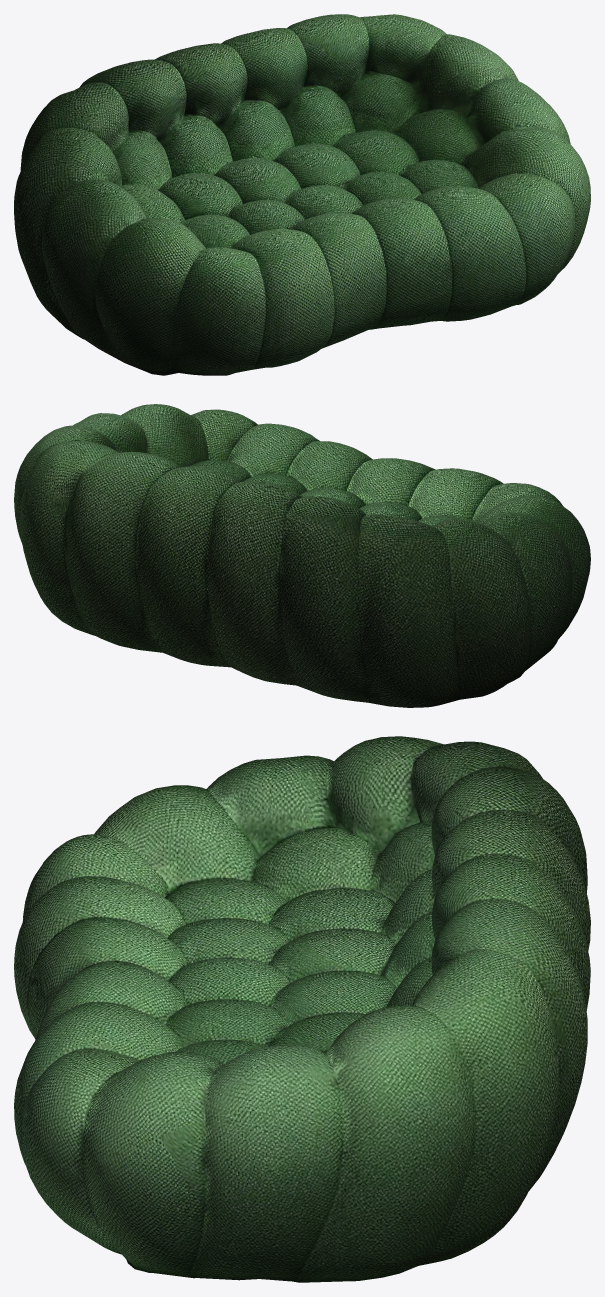
File: green-sofa.glb
3 views of the same model, one above another, from view 1: azimuth 30°, elevation 25°; view 2: azimuth 150°, elevation 25°; view 3: azimuth 270°, elevation 25° (orthographic). The views are drawn at different scales.
Visible parts, largest first — view 1: tripo_node_3f617c6f-8434-4343-981b-533a0f7939f9; view 2: tripo_node_3f617c6f-8434-4343-981b-533a0f7939f9; view 3: tripo_node_3f617c6f-8434-4343-981b-533a0f7939f9.
Part boxes in pixels (x1,y1,x2,y2): tripo_node_3f617c6f-8434-4343-981b-533a0f7939f9: [14, 14, 590, 375]; tripo_node_3f617c6f-8434-4343-981b-533a0f7939f9: [14, 404, 590, 707]; tripo_node_3f617c6f-8434-4343-981b-533a0f7939f9: [14, 736, 590, 1282].
Size of the model in its own units: 1.9 by 0.701 by 1.29.
1 material, 1 textured.
